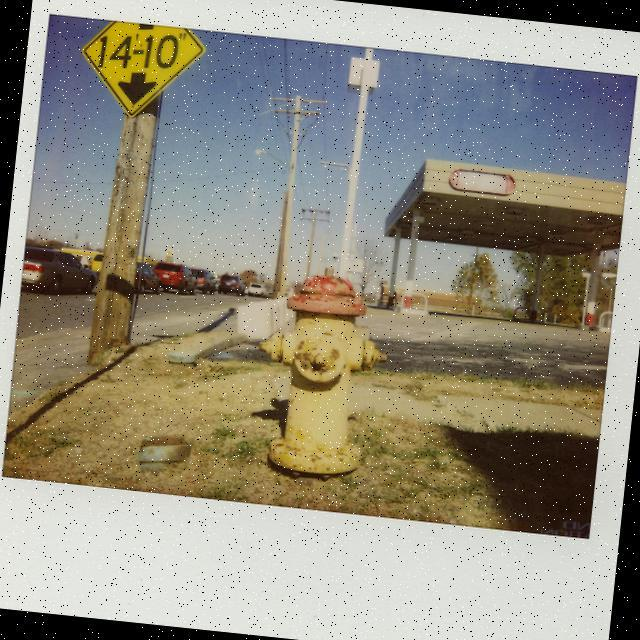fire_hydrant: (244, 258, 396, 484)
